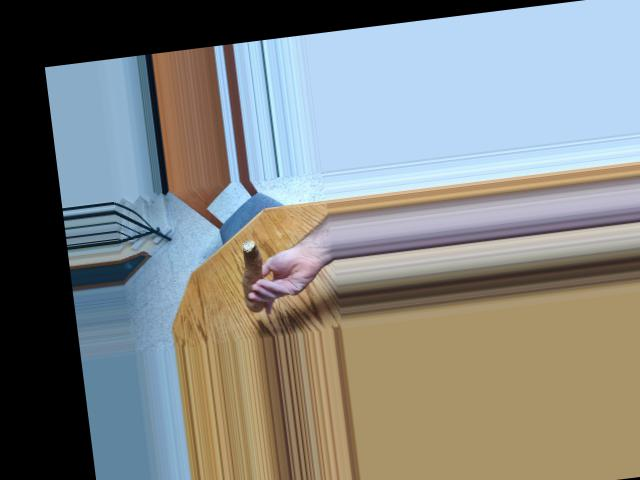sweet_potato: (231, 247, 265, 308)
